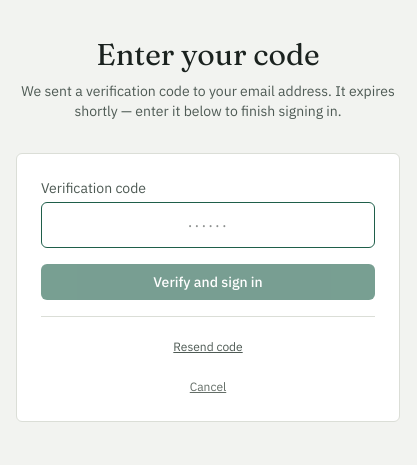
MfaPage › shows the backend error on invalid OTP
Type "000000" into the field labelled "Verification code" at (208,224), box [41, 202, 375, 248]
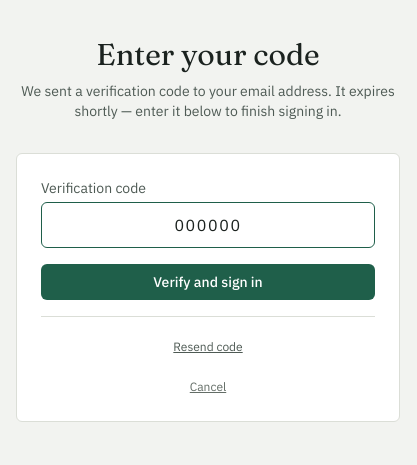
Click the button "Verify and sign in" at (208,282), box [41, 264, 375, 300]
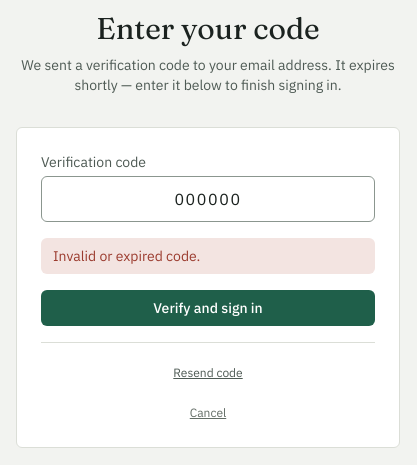
Now the message reads "Invalid or expired code.", box [53, 246, 200, 264]
